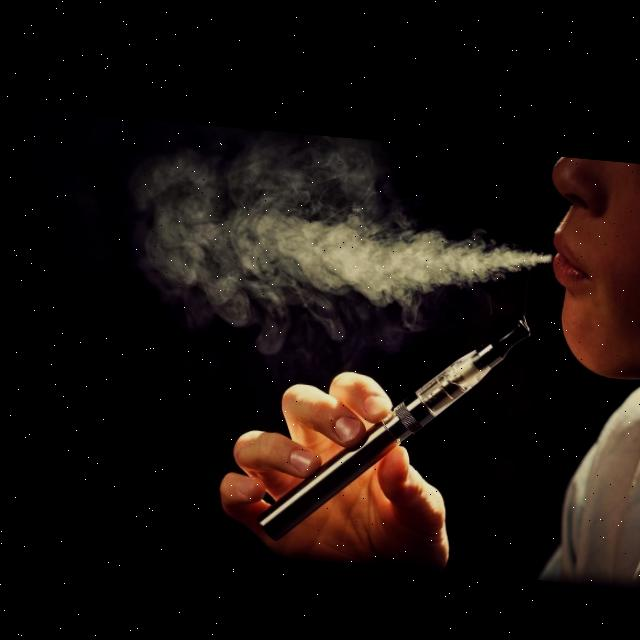vape: (254, 291, 533, 558)
